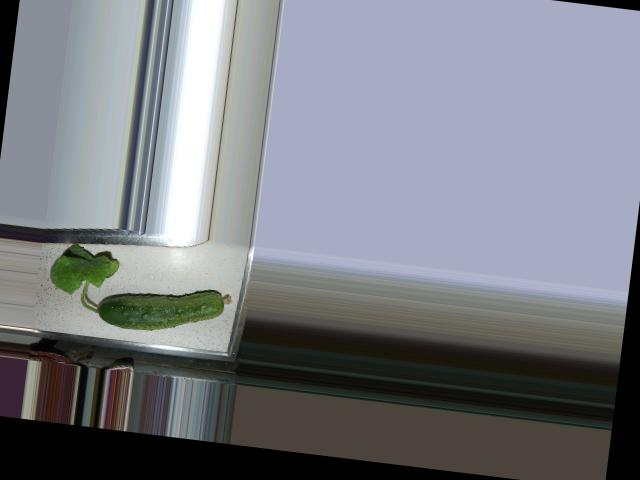cucumber: (94, 277, 232, 340)
